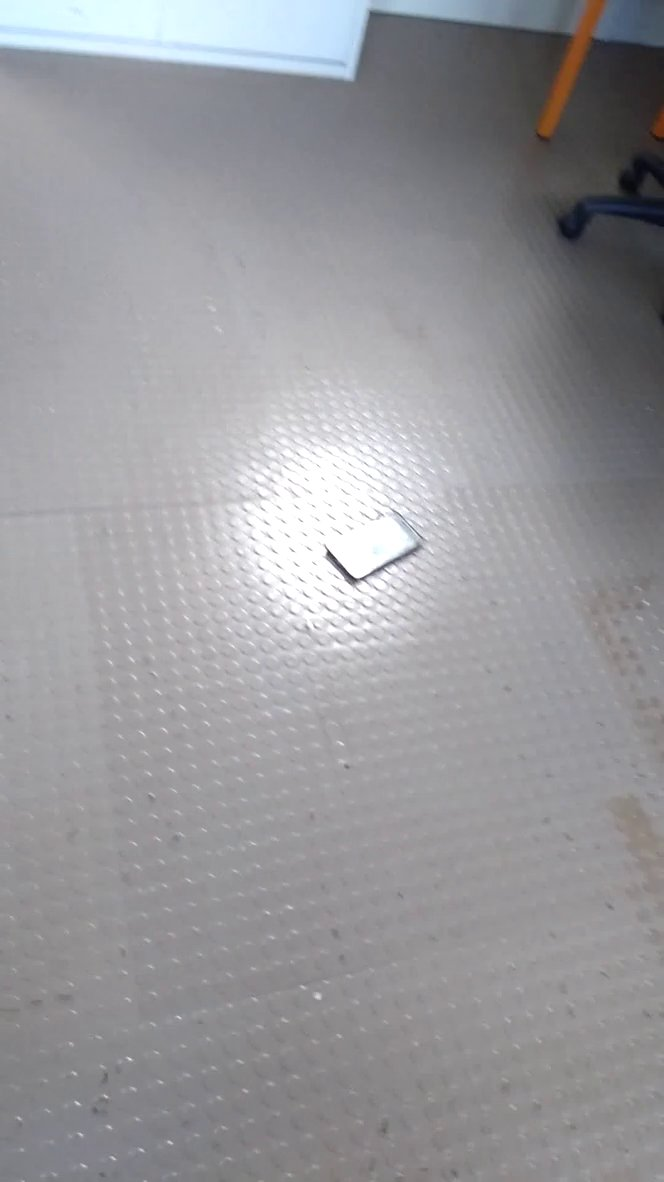phone: (320, 500, 438, 606)
